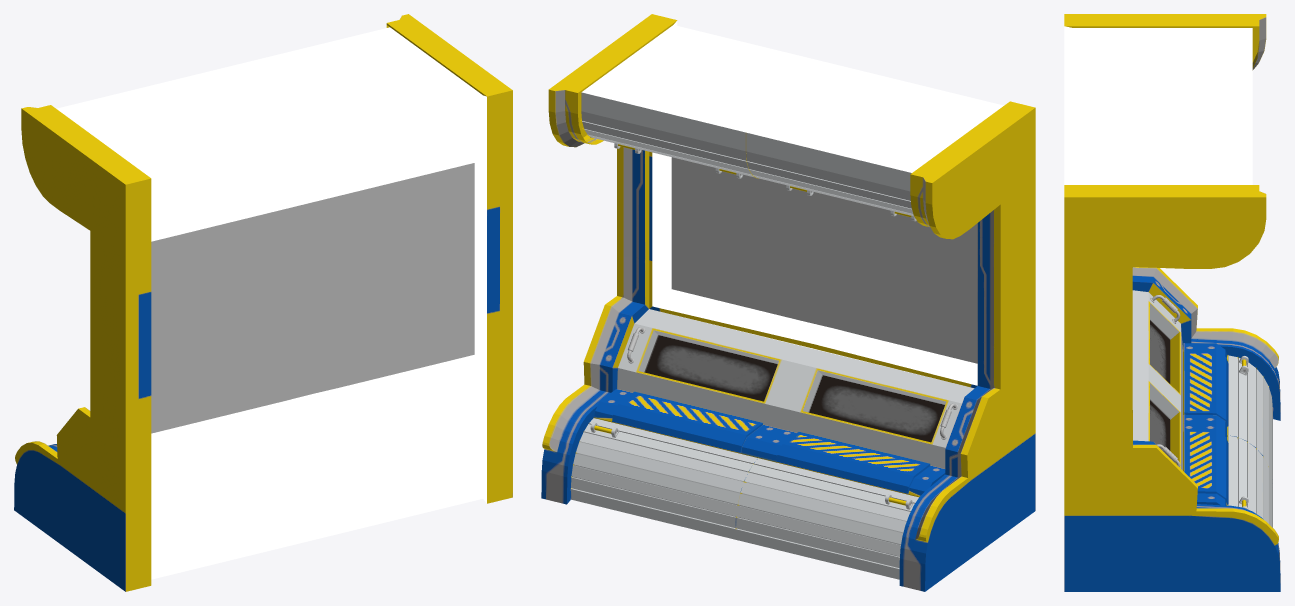
File: SM_Coridor2CrimsonMainWallGlass.fbx
The picture shows the model from 3 angles, left to right: view 1: azimuth 30°, elevation 25°; view 2: azimuth 150°, elevation 25°; view 3: azimuth 270°, elevation 25°; orthographic projection. The views are drawn at different scales.
Parts seen in each view (by area): view 1: SM_Coridor2CrimsonMainWallGlass_LOD0; view 2: SM_Coridor2CrimsonMainWallGlass_LOD0; view 3: SM_Coridor2CrimsonMainWallGlass_LOD0.
Part boxes in pixels (x1=…): SM_Coridor2CrimsonMainWallGlass_LOD0: x1=14, y1=14, x2=512, y2=591; SM_Coridor2CrimsonMainWallGlass_LOD0: x1=541, y1=14, x2=1035, y2=591; SM_Coridor2CrimsonMainWallGlass_LOD0: x1=1064, y1=14, x2=1280, y2=591.
Size of the model in its own units: 402 by 201 by 404.
